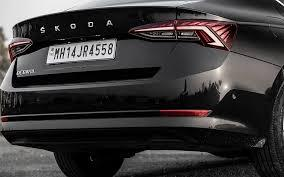skoda: (40, 20, 123, 34)
